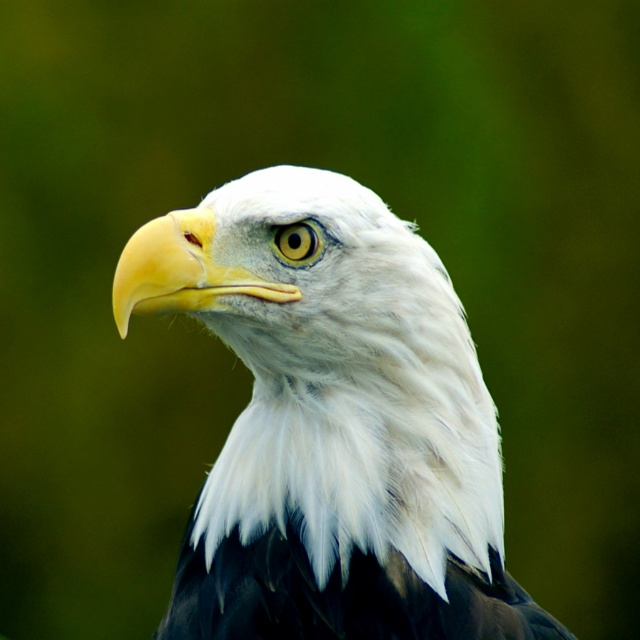Eagle: (113, 164, 577, 639)
